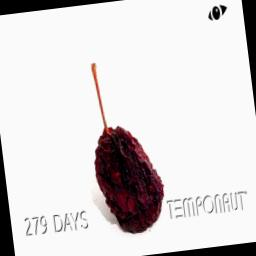Apple Rotten: (62, 12, 190, 242)
